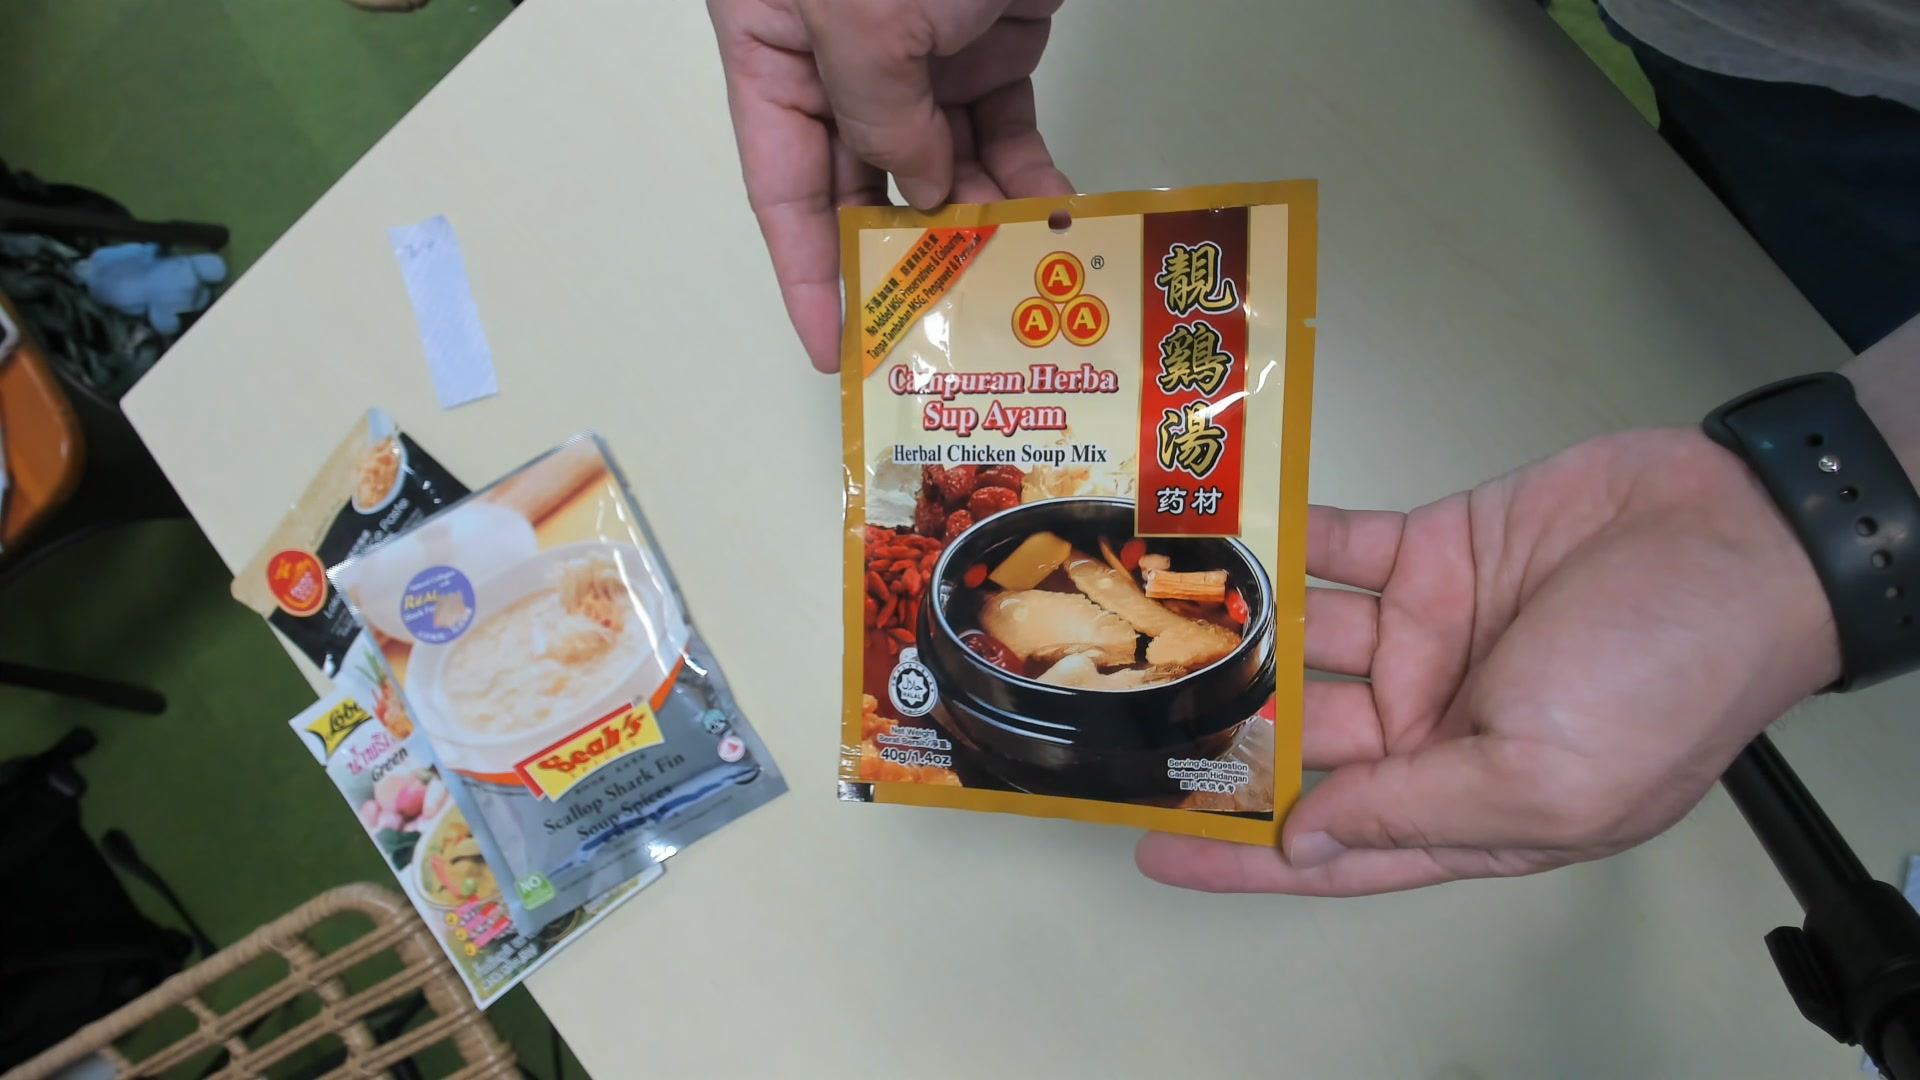OtherSauceDressing_0-99g_Halal_NonHealthy: (841, 190, 1303, 851)
